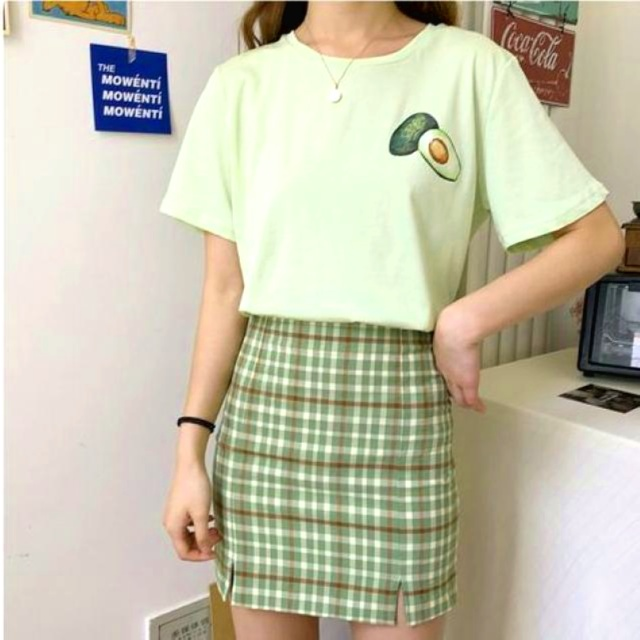Miniskirt: (207, 317, 461, 640)
